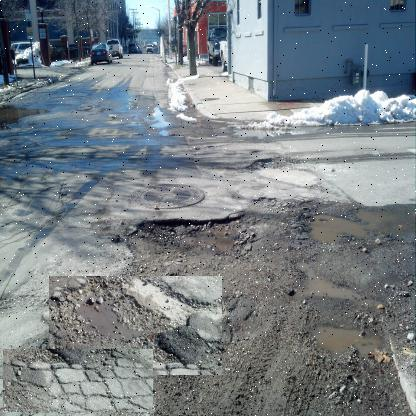crack: (2, 349, 153, 413)
damage: (112, 206, 288, 312), (48, 276, 222, 376)
